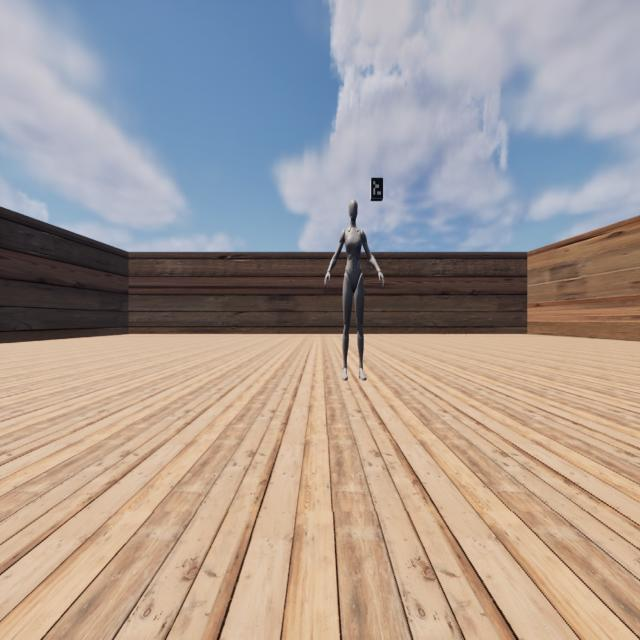aruco: (371, 177, 384, 198)
hip: (343, 272, 364, 282)
